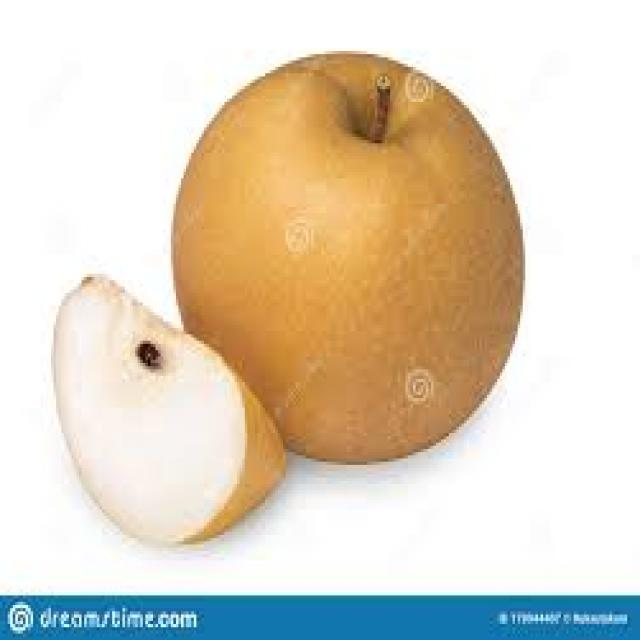pear: (176, 54, 525, 463)
